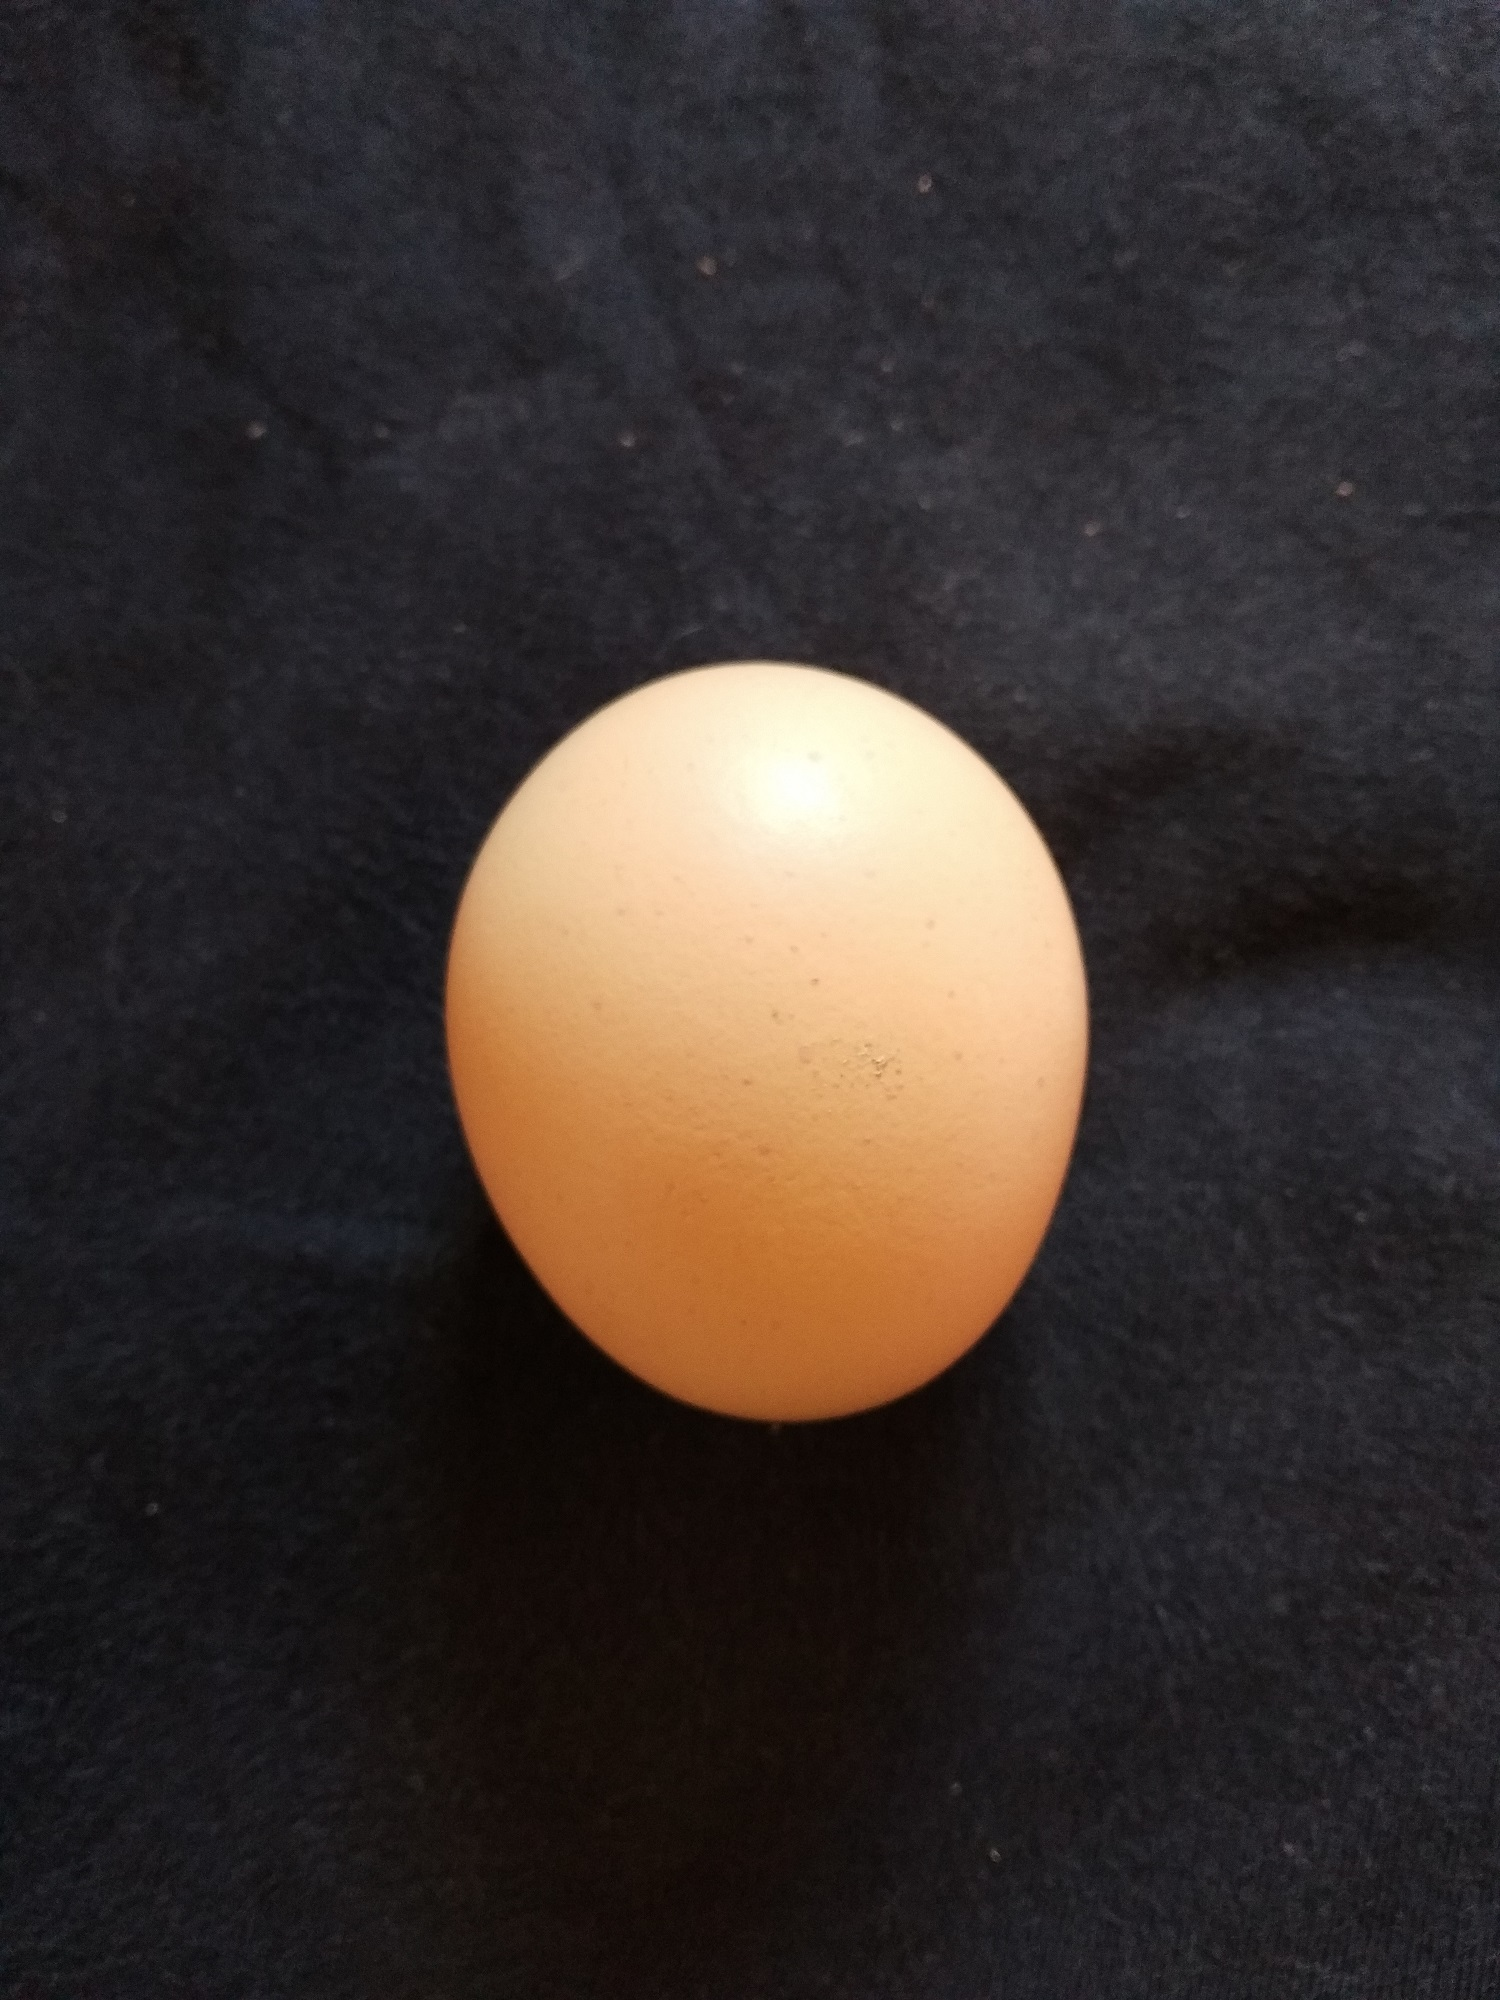Female: (432, 650, 1093, 1427)
